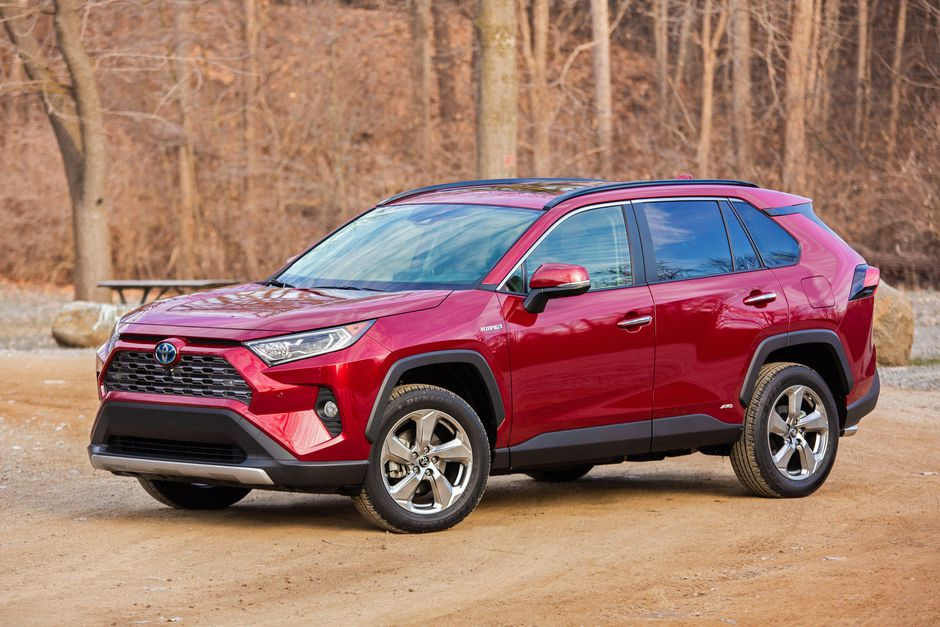car: (86, 175, 880, 538)
